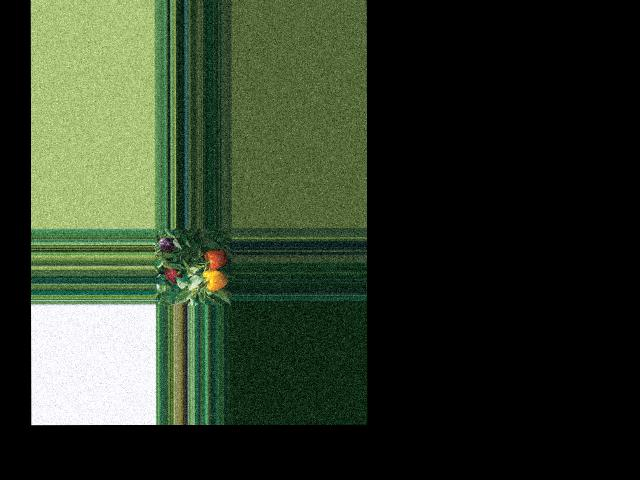bell_pepper: (201, 264, 226, 291)
